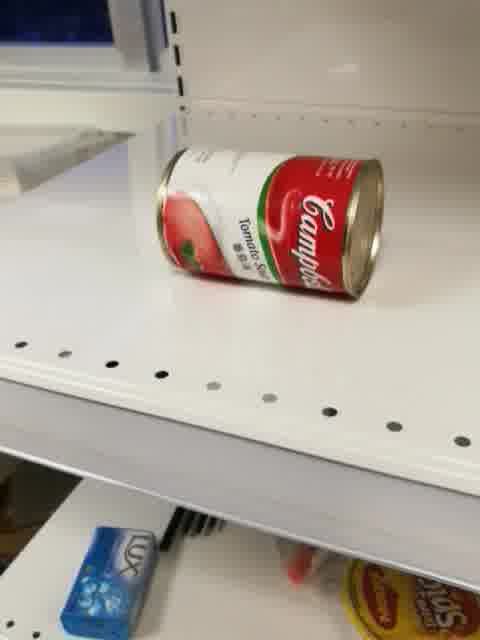tomatosoup: (151, 147, 387, 303)
